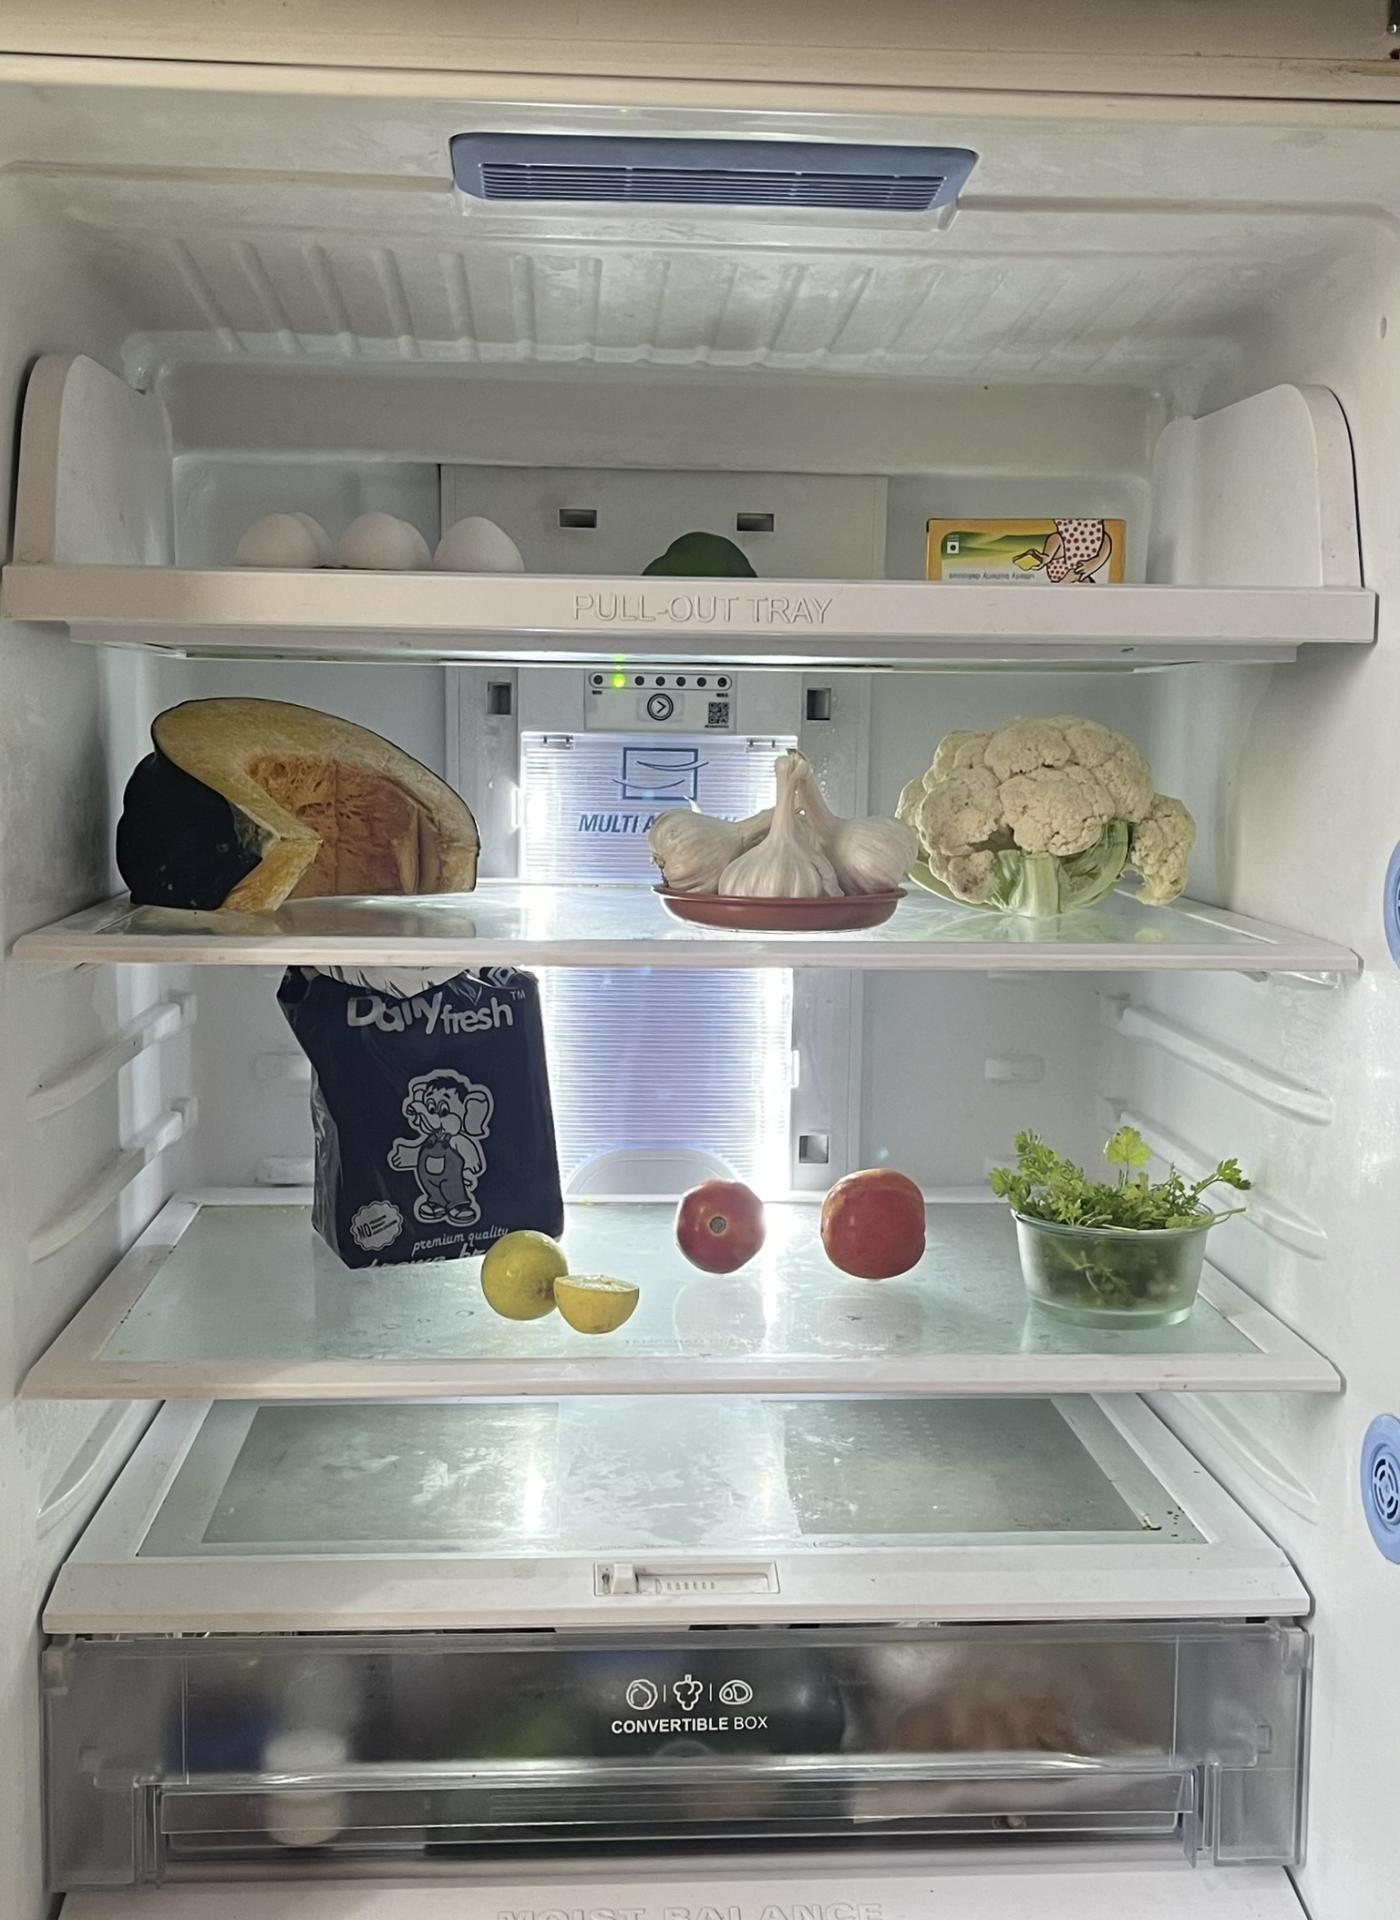bread: (273, 969, 598, 1269), (468, 1225, 638, 1334)
butter: (921, 507, 1136, 581)
capsicum: (635, 528, 775, 581)
cauliflower: (890, 719, 1200, 929)
coriander: (984, 1109, 1249, 1337)
garlic: (647, 747, 930, 903), (237, 507, 532, 562)
pumpkin: (116, 687, 489, 915)
tomato: (820, 1166, 930, 1285), (674, 1169, 765, 1285)
